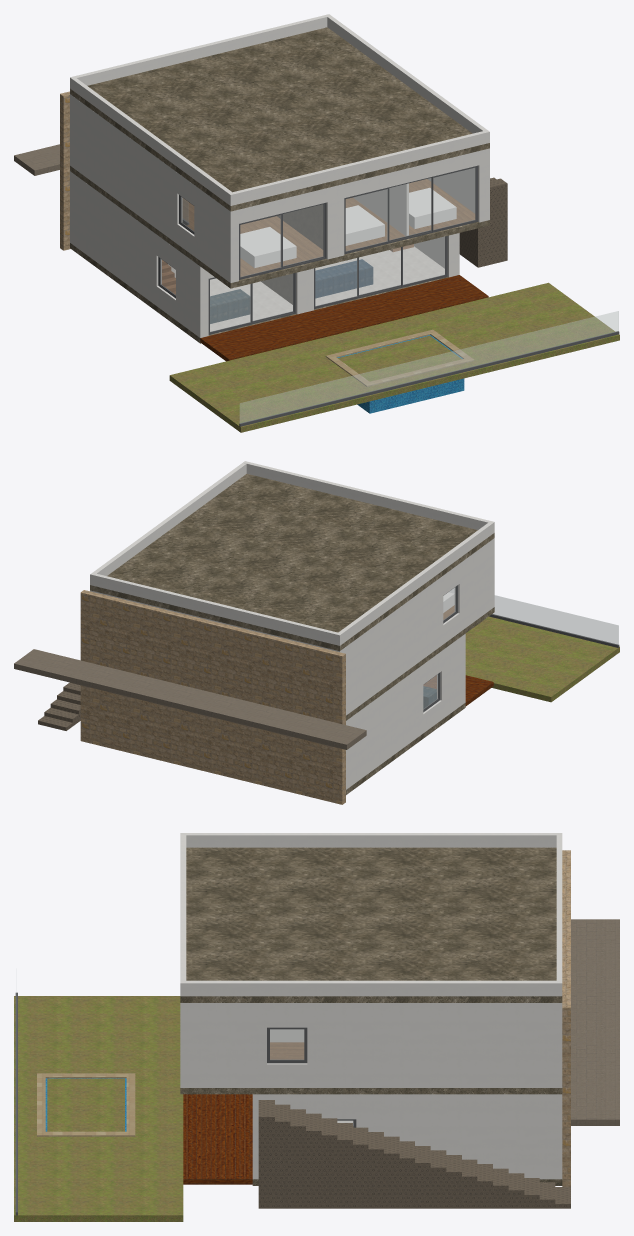
3 renders of one model, top to bottom at view 1: azimuth 30°, elevation 25°; view 2: azimuth 150°, elevation 25°; view 3: azimuth 270°, elevation 25°, orthographic. The views are drawn at different scales.
Visible parts, largest first — view 1: NEW_Roof_Membrane, NEW_Garden, NEW_Wall_Up_SideA, NEW_Wall_Mid_SideA, NEW_Garden_Rail, NEW_Garden_Deck, NEW_Win_Up_Front1, NEW_Win_Mid_Front1, NEW_Wall_Up_Front, NEW_Win_Up_Front0, NEW_Win_Mid_Front0, NEW_Roof_Parapet0 (+26 smaller); view 2: NEW_Retaining_Back, NEW_Roof_Membrane, NEW_Wall_Up_SideA, NEW_Access_UpperPath, NEW_Garden, NEW_Wall_Mid_SideA, NEW_Roof_Parapet1, NEW_Roof_Parapet0, NEW_Garden_Rail, NEW_Roof_Slab, NEW_Roof_Parapet2, NEW_Roof_Parapet3 (+4 smaller); view 3: NEW_Roof_Membrane, NEW_Garden, NEW_Wall_Up_SideB, NEW_Access_Stair_Garden, NEW_Wall_Mid_SideB, NEW_Access_UpperPath, NEW_Roof_Parapet3, NEW_Garden_Deck, NEW_Roof_Parapet2, NEW_Garden_NoPool_Lawn, NEW_Retaining_Back, NEW_Roof_Slab (+9 smaller).
Boxes of the visible parts, x1,y1,x2,y2 form: NEW_Roof_Membrane: (87,27,472,192); NEW_Garden: (169,282,619,432); NEW_Wall_Up_SideA: (70,94,235,282); NEW_Wall_Mid_SideA: (70,171,205,337); NEW_Garden_Rail: (239,311,619,426); NEW_Garden_Deck: (200,275,488,361); NEW_Win_Up_Front1: (344,165,477,254); NEW_Win_Mid_Front1: (314,236,447,309); NEW_Wall_Up_Front: (236,149,484,281); NEW_Win_Up_Front0: (239,202,326,279); NEW_Win_Mid_Front0: (208,273,295,334); NEW_Roof_Parapet0: (229,130,489,204); NEW_Retaining_Back: (80,590,345,804); NEW_Roof_Membrane: (107,474,477,632); NEW_Wall_Up_SideA: (334,538,494,715); NEW_Access_UpperPath: (14,649,366,749); NEW_Garden: (465,616,619,702); NEW_Wall_Mid_SideA: (346,634,465,789); NEW_Roof_Parapet1: (90,572,341,644); NEW_Roof_Parapet0: (243,461,494,529); NEW_Garden_Rail: (489,595,619,647); NEW_Roof_Slab: (90,533,494,651); NEW_Roof_Parapet2: (335,522,494,645); NEW_Roof_Parapet3: (90,463,246,585); NEW_Roof_Membrane: (186,847,556,980); NEW_Garden: (14,996,183,1221); NEW_Wall_Up_SideB: (180,1003,562,1087); NEW_Access_Stair_Garden: (258,1100,570,1208); NEW_Wall_Mid_SideB: (252,1094,562,1179); NEW_Access_UpperPath: (571,919,619,1125); NEW_Roof_Parapet3: (180,980,562,996); NEW_Garden_Deck: (183,1094,252,1184); NEW_Roof_Parapet2: (186,833,556,847); NEW_Garden_NoPool_Lawn: (47,1078,124,1131); NEW_Retaining_Back: (562,850,570,1186); NEW_Roof_Slab: (180,996,562,1002).
Size of the model in its own units: 18 by 8.95 by 20.99.
Materials: 26 (18 with a texture image).
